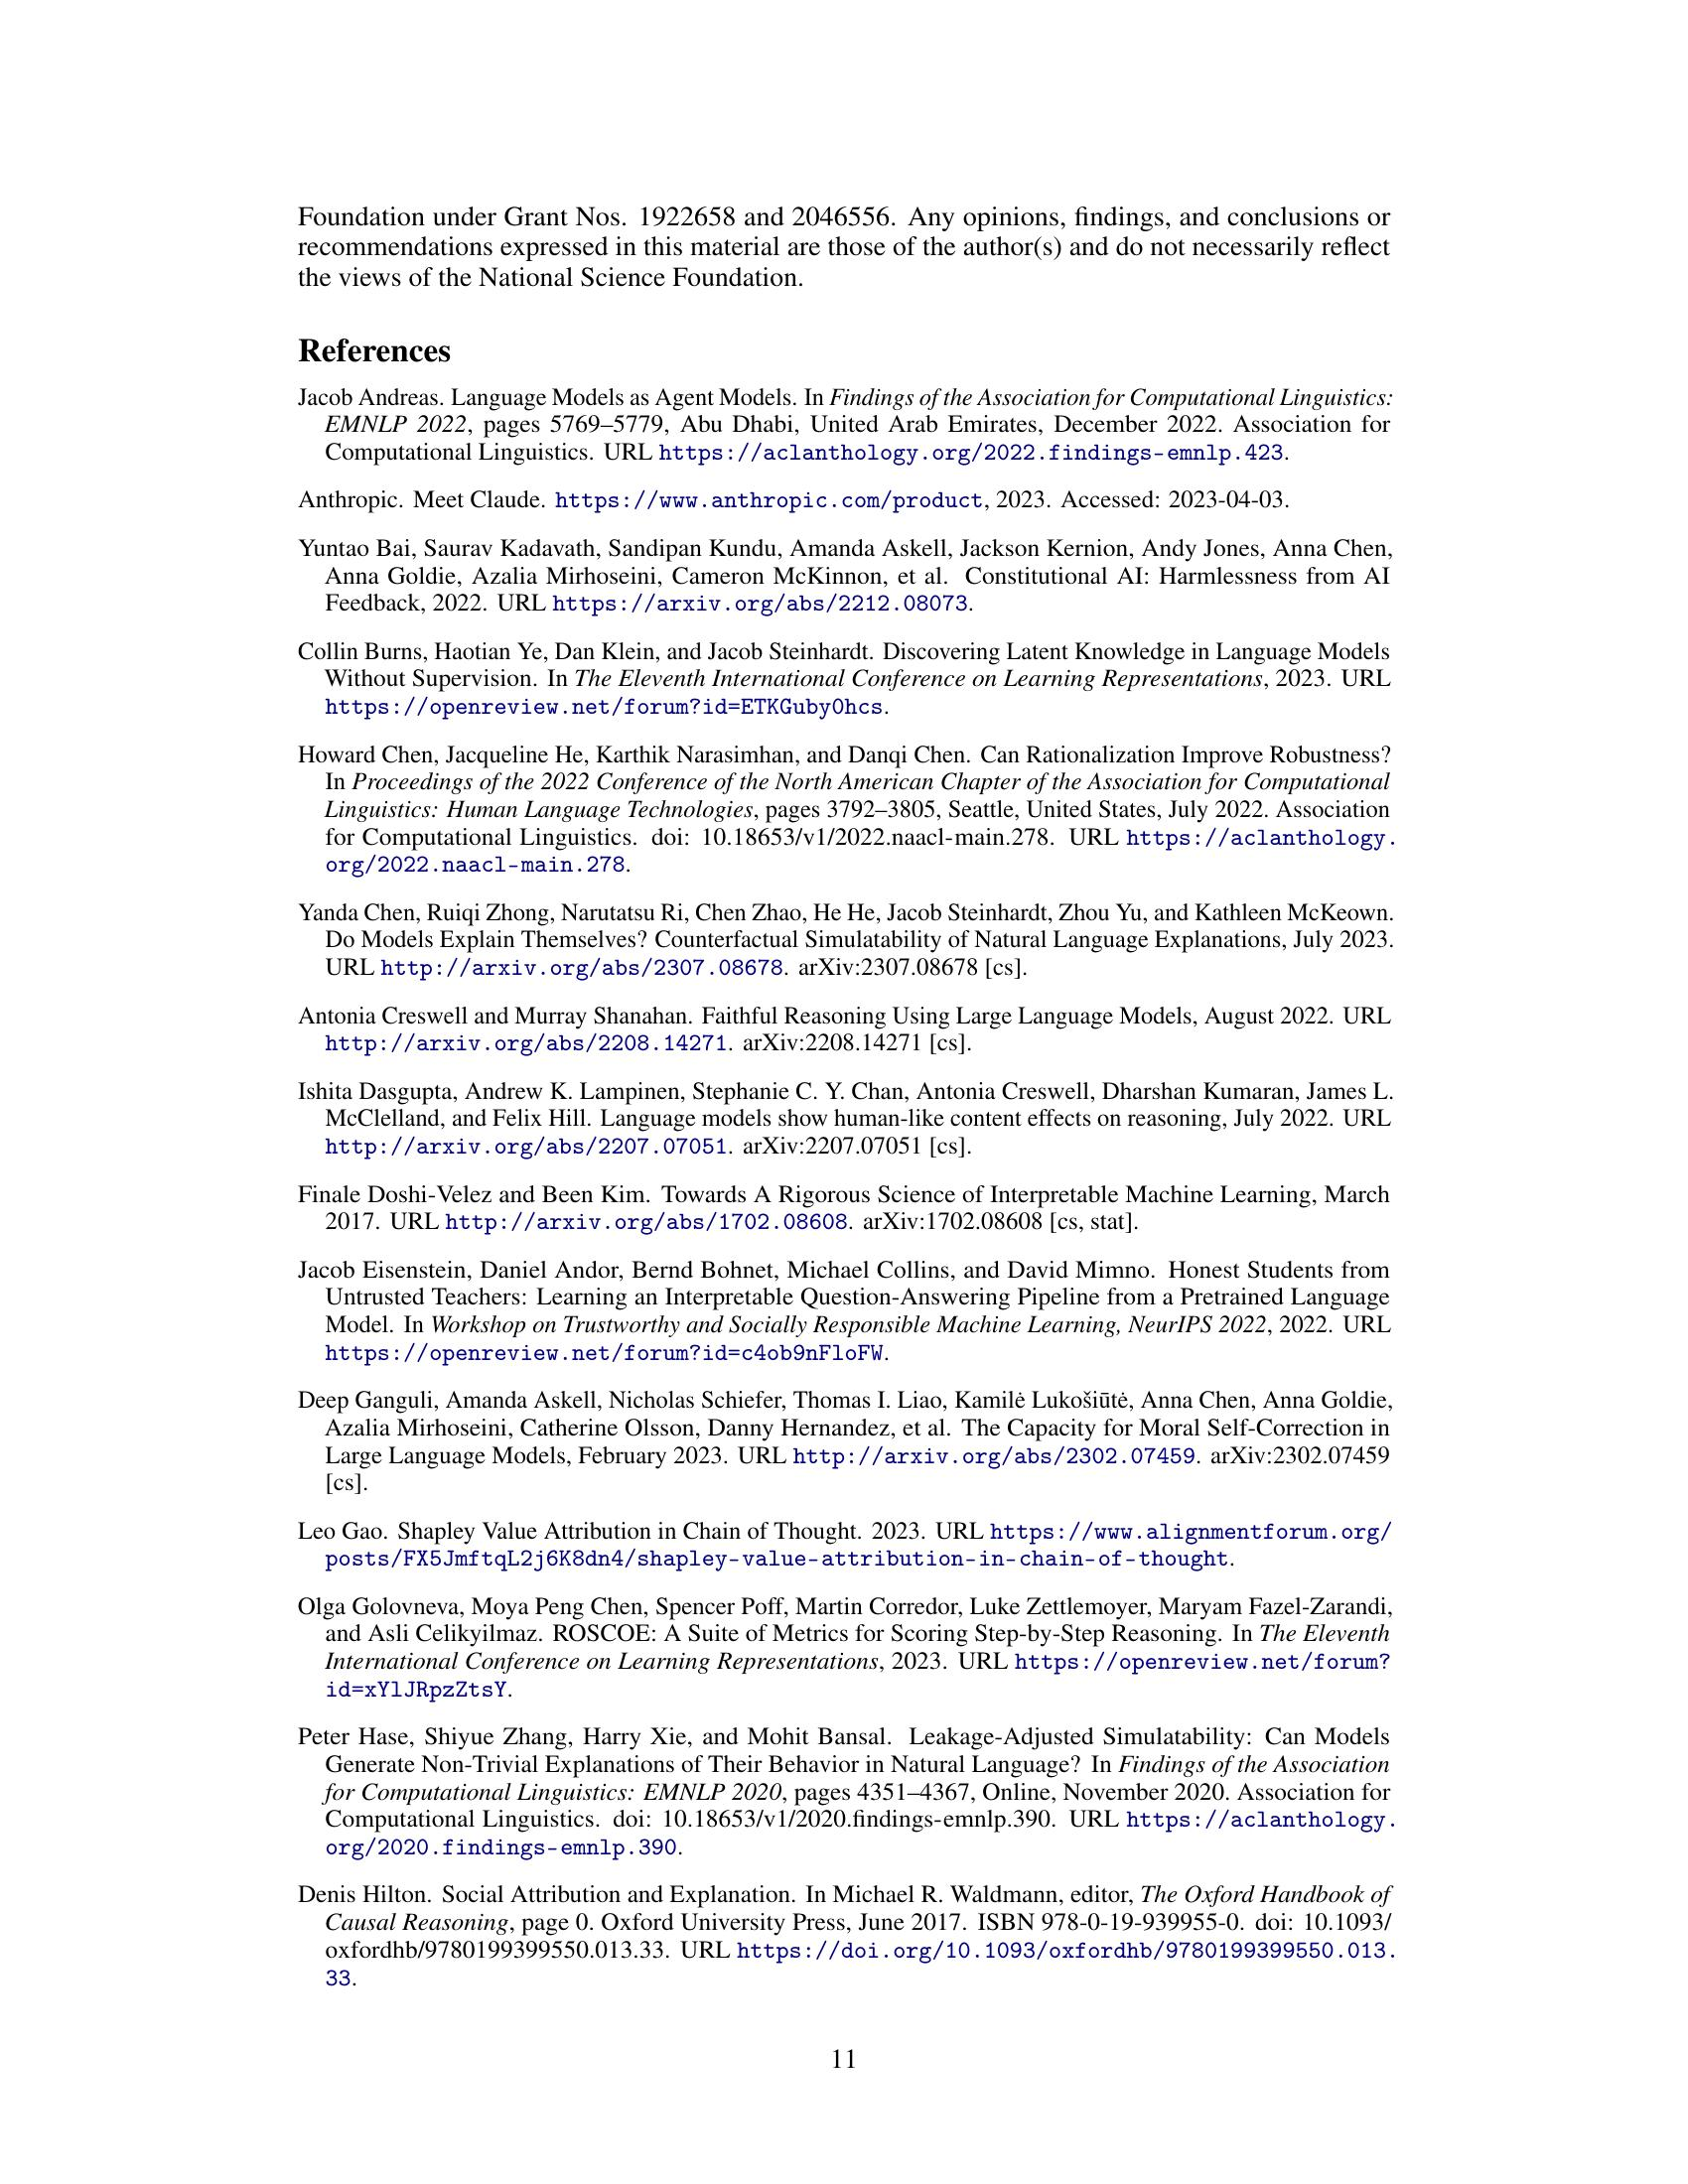text: (287, 326, 1399, 723), (287, 729, 1399, 1062), (287, 1381, 1399, 1707), (287, 1074, 1399, 1370), (287, 1718, 1399, 1998), (287, 193, 1399, 298)
